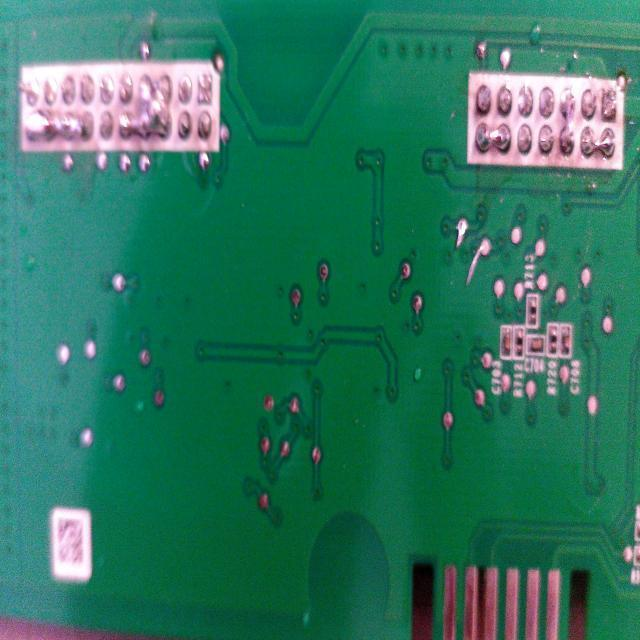Soldering shorted: (116, 73, 172, 144), (23, 104, 99, 142), (470, 123, 514, 162), (583, 128, 619, 164), (560, 86, 577, 159)
